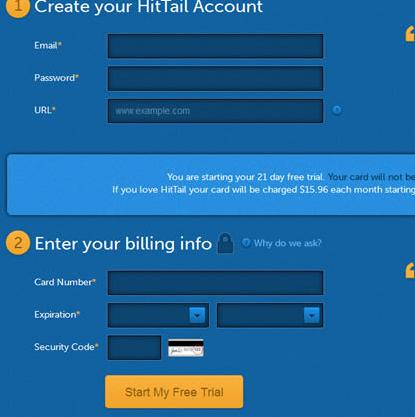button: (104, 374, 243, 409)
field: (105, 98, 324, 124), (107, 33, 325, 59), (106, 66, 324, 92), (106, 270, 324, 296), (216, 302, 324, 329), (107, 302, 210, 328), (105, 333, 162, 361)
field_with_label: (32, 32, 327, 60), (34, 96, 327, 124), (31, 269, 324, 297), (34, 65, 326, 92), (33, 301, 211, 329), (32, 333, 164, 361)
